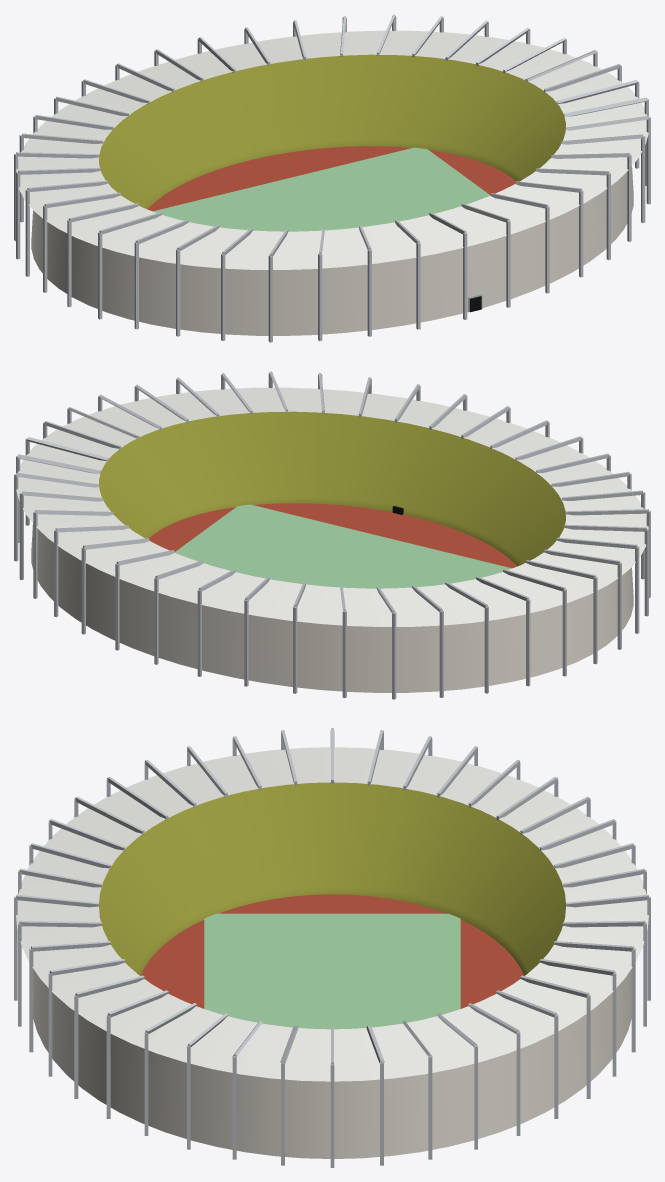
File: plateau-stade.glb
3 views of the same model, one above another, from view 1: azimuth 30°, elevation 25°; view 2: azimuth 150°, elevation 25°; view 3: azimuth 270°, elevation 25° (orthographic). The views are drawn at different scales.
Size of the model in its own units: 211 by 30.72 by 169.
